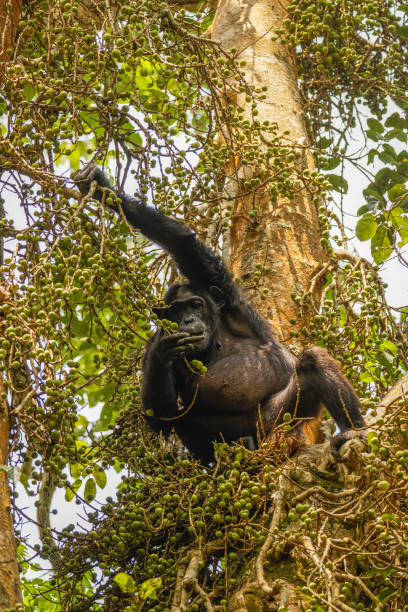chimpanzee: (145, 275, 227, 367)
